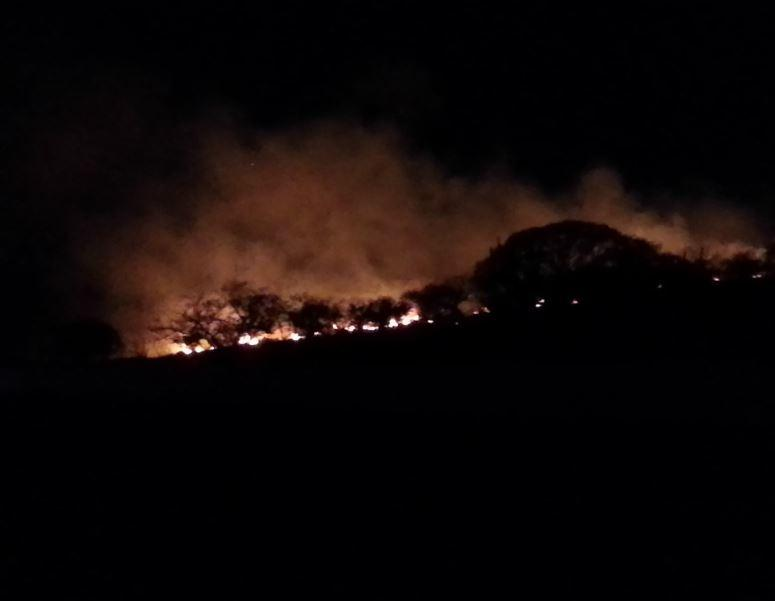smoke: (218, 148, 443, 283)
